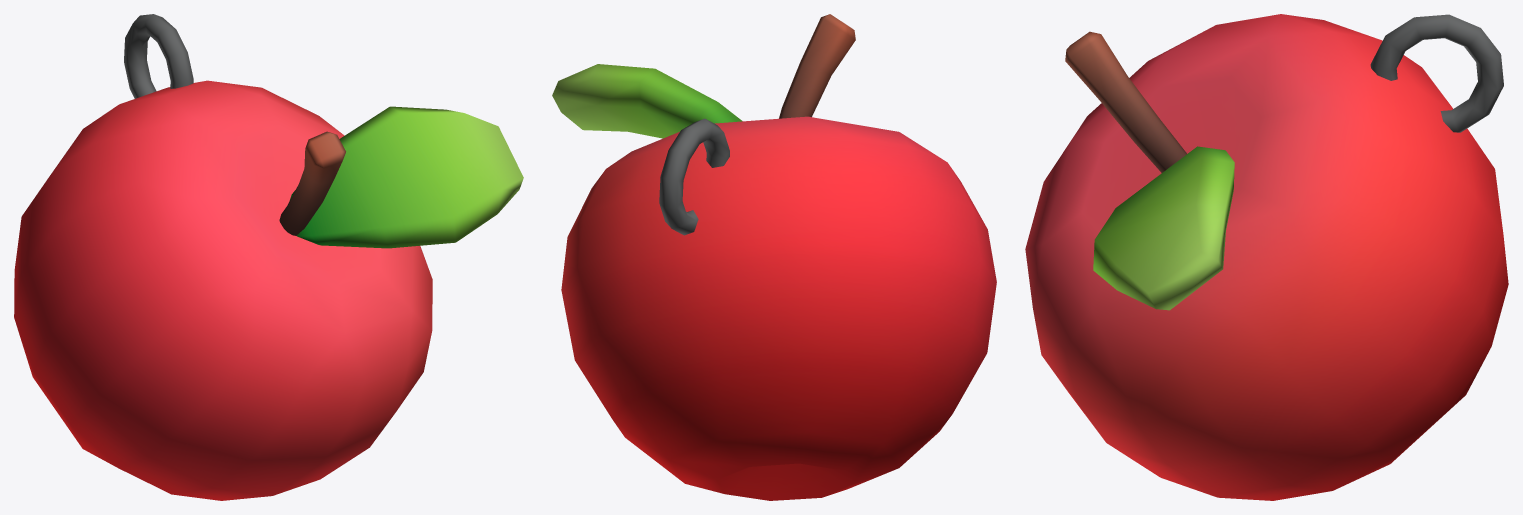
The model's file is Charm_13.fbx.
3 views of the same model, side by side, from view 1: azimuth 30°, elevation 25°; view 2: azimuth 150°, elevation 25°; view 3: azimuth 270°, elevation 25° (orthographic). The views are drawn at different scales.
Visible parts, largest first — view 1: Charm_13; view 2: Charm_13; view 3: Charm_13.
Boxes of the visible parts, <box> form: Charm_13: <box>14,14,523,500</box>; Charm_13: <box>552,14,996,500</box>; Charm_13: <box>1025,14,1508,500</box>.
Size of the model in its own units: 5.33 by 4.78 by 4.49.
